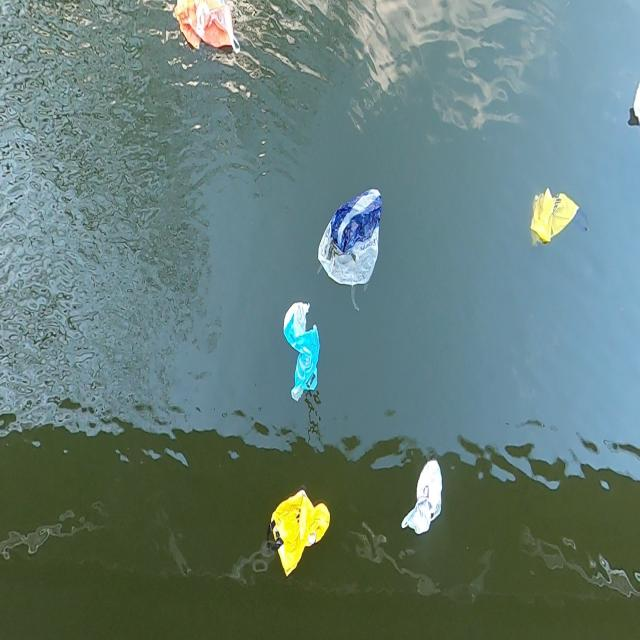Sac plastique: (312, 181, 387, 291), (264, 484, 334, 578), (278, 299, 324, 408), (397, 458, 455, 542), (526, 182, 590, 254), (171, 0, 240, 56)
